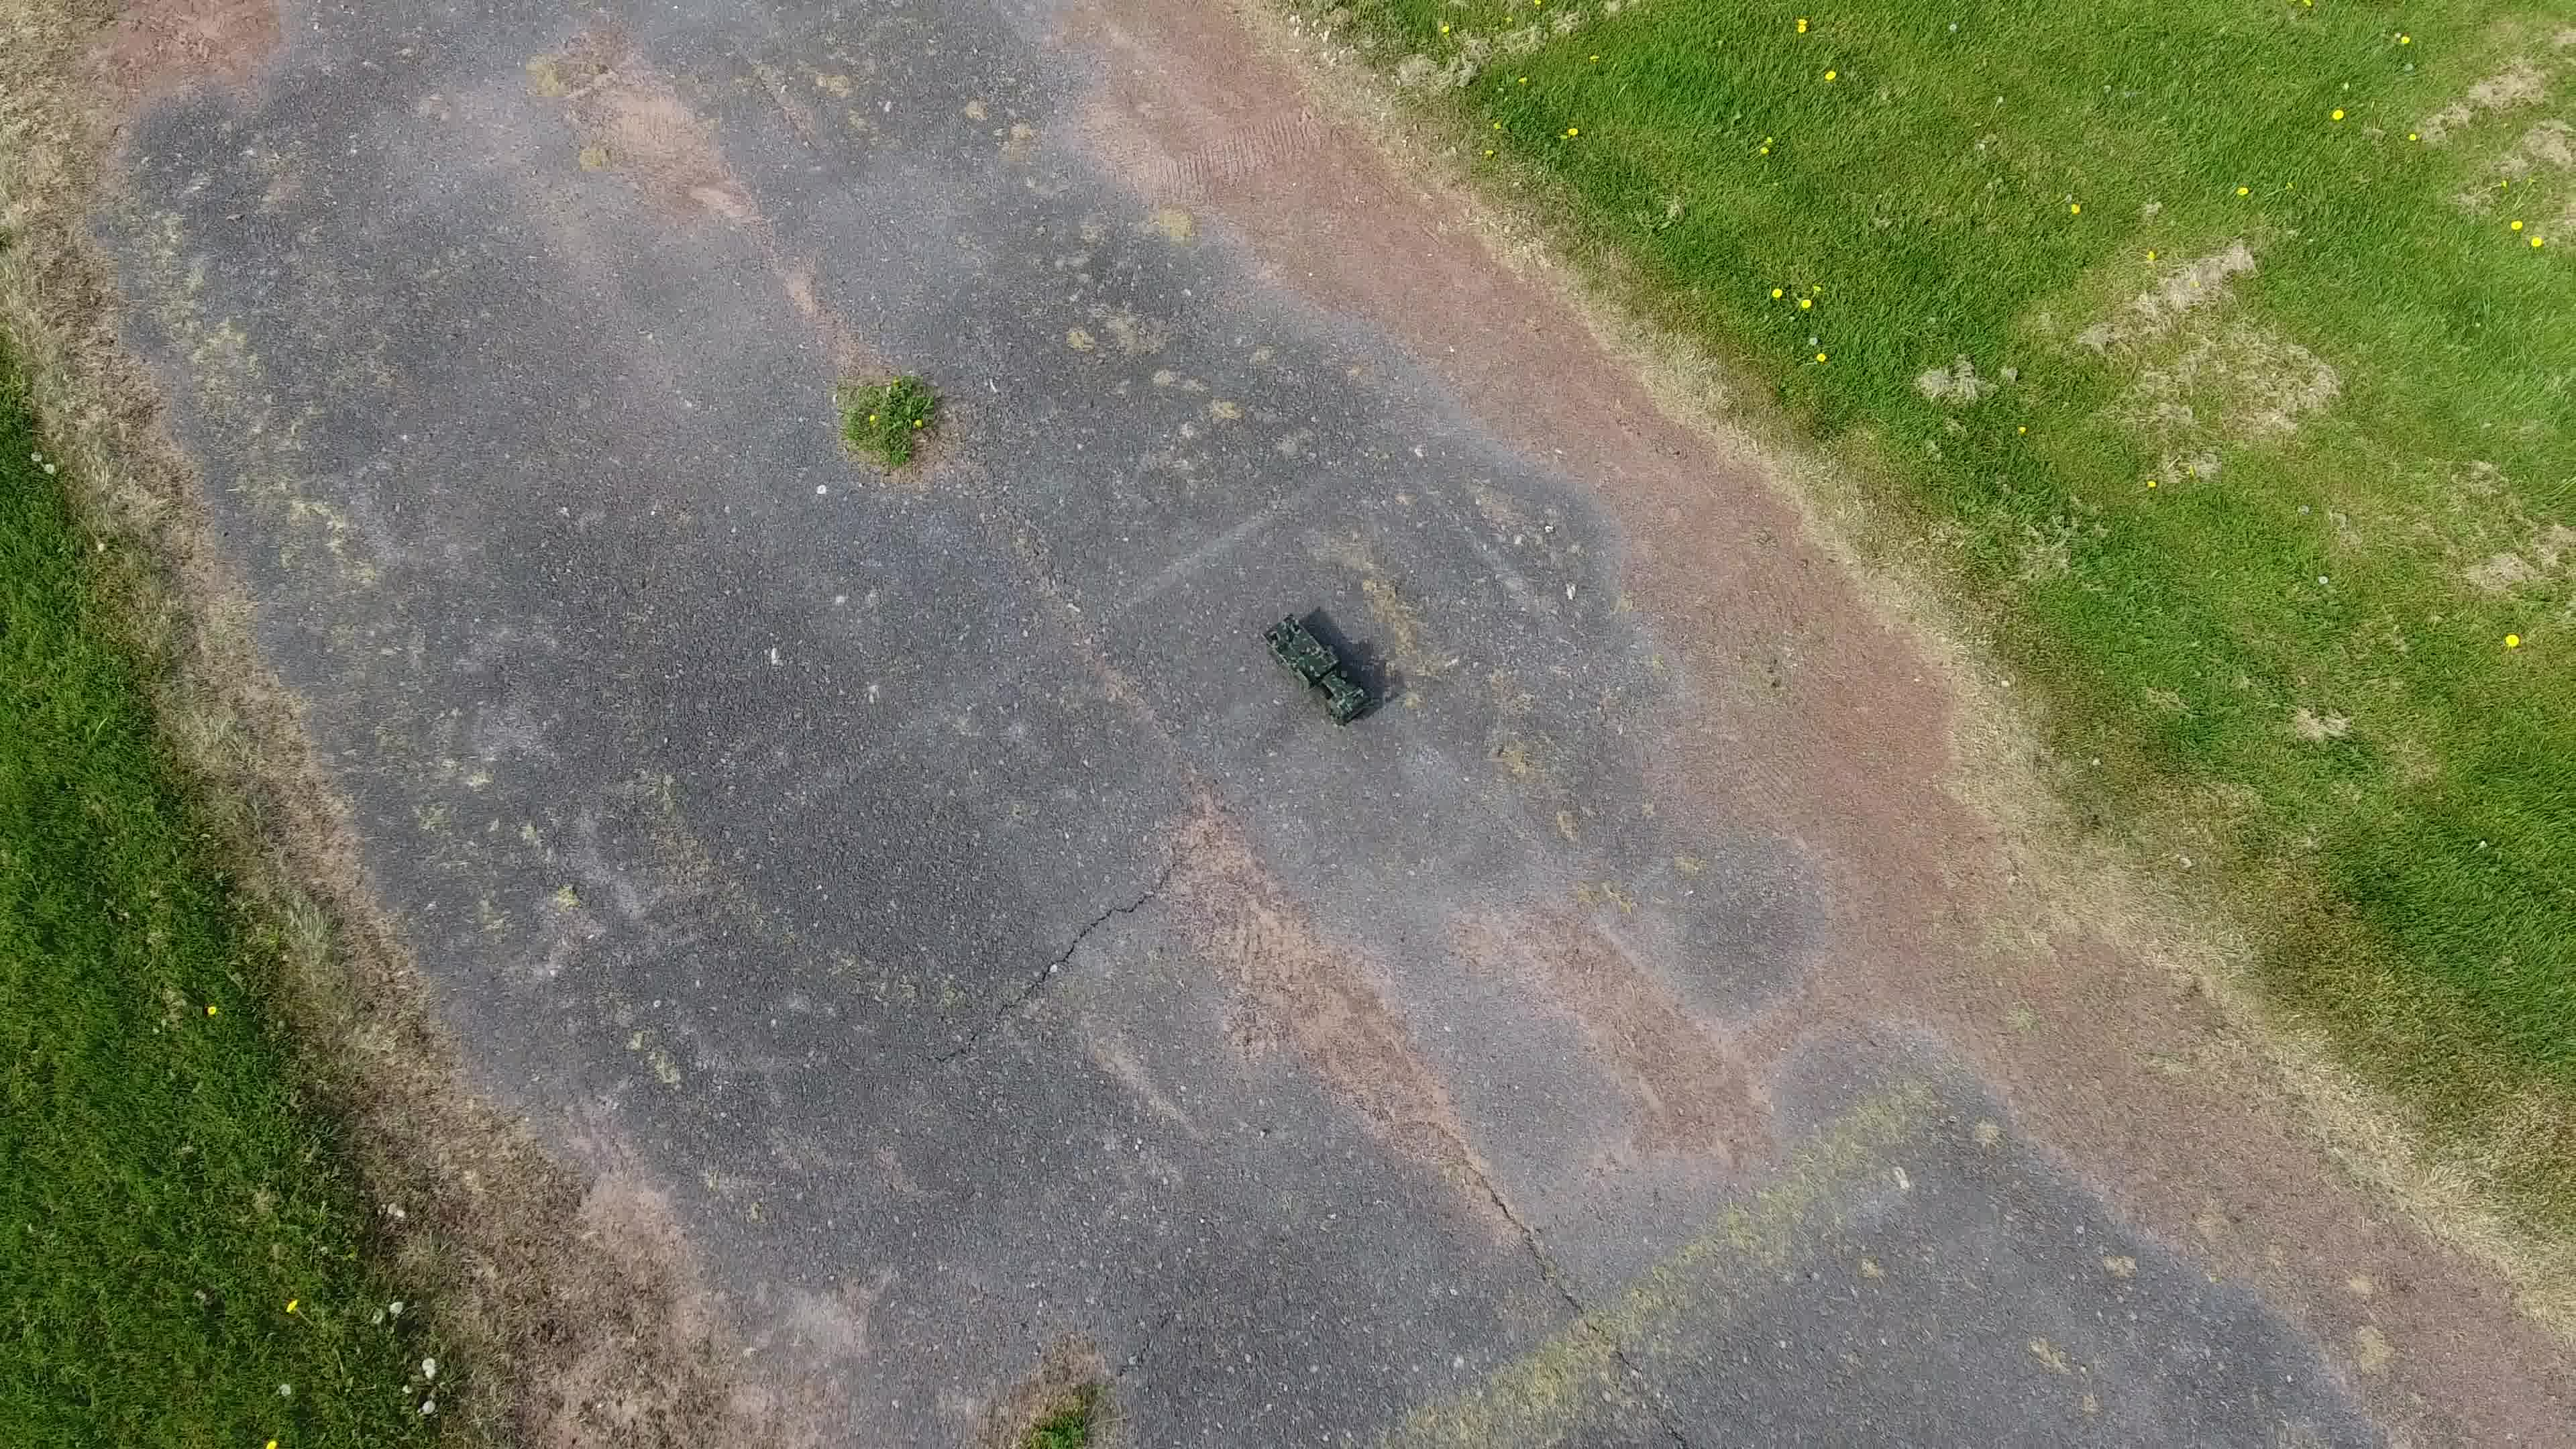transporter9_camo: (1258, 610, 1376, 731)
